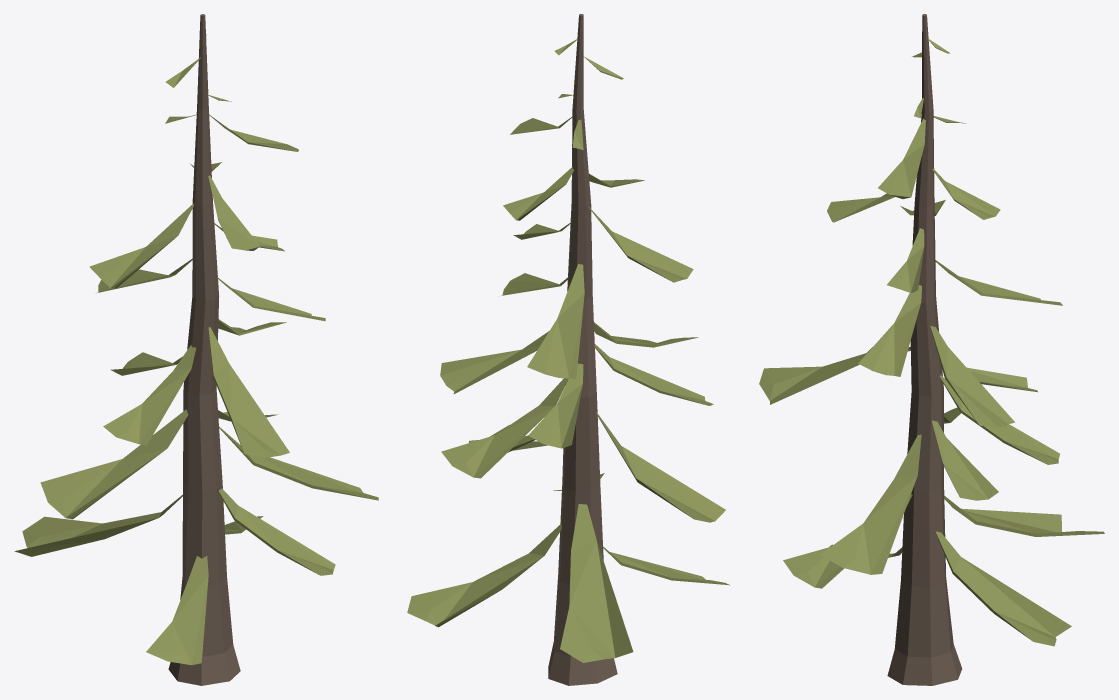
File: Wh_Pine.fbx
3 renders of one model, left to right at view 1: azimuth 30°, elevation 25°; view 2: azimuth 150°, elevation 25°; view 3: azimuth 270°, elevation 25°, orthographic.
Visible parts, largest first — view 1: Plane.578, Plane.601; view 2: Plane.578, Plane.601; view 3: Plane.578, Plane.601.
Part boxes in pixels (left/top/right/bottom): Plane.578: left=14, top=34, right=378, bottom=665; Plane.601: left=168, top=14, right=240, bottom=685; Plane.578: left=407, top=39, right=729, bottom=662; Plane.601: left=548, top=14, right=617, bottom=685; Plane.578: left=759, top=39, right=1104, bottom=646; Plane.601: left=887, top=14, right=962, bottom=685.
Size of the model in its own units: 576 by 1297 by 619.
